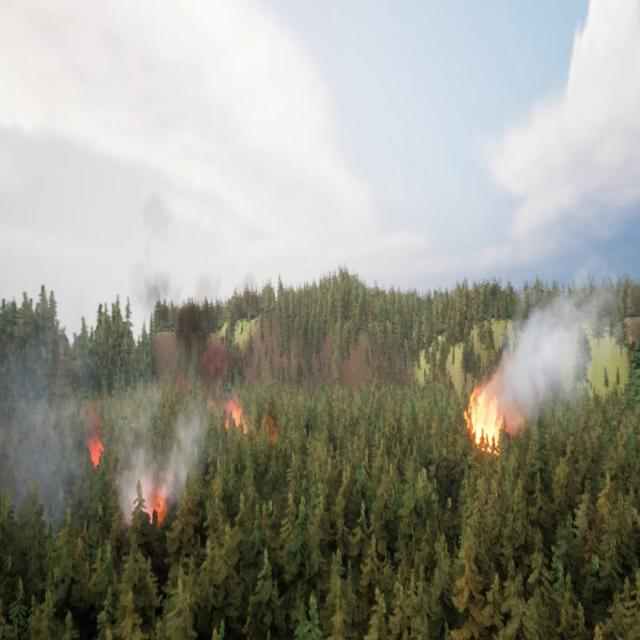fire: (465, 388, 506, 448), (144, 481, 171, 529), (223, 390, 251, 435), (89, 434, 110, 474)
smoke: (0, 294, 233, 512), (495, 282, 609, 426)
